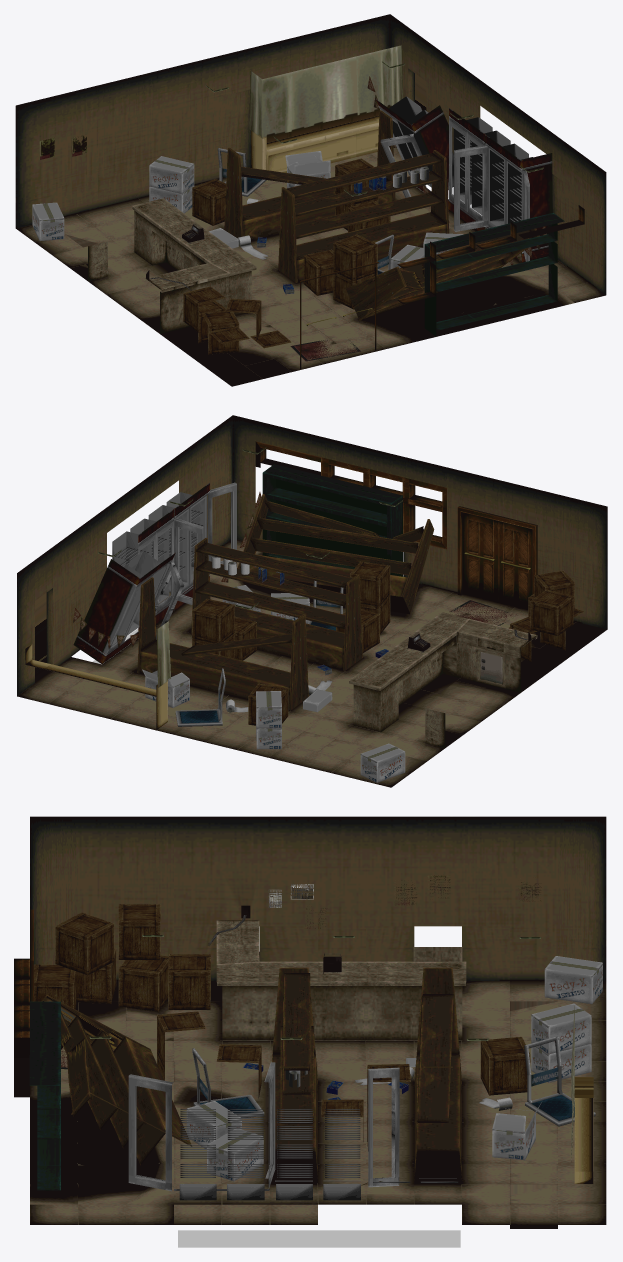
3 views of the same model, one above another, from view 1: azimuth 30°, elevation 25°; view 2: azimuth 150°, elevation 25°; view 3: azimuth 270°, elevation 25° (orthographic). The views are drawn at different scales.
Parts seen in each view (by area): view 1: NULL4_BA_m1, NULL4_BA_m4, BOSS_m2, NULL4_BA_m8, TANITA2__m0, NULL4_BA_m5, NULL3_BA_m0, TANA_HID_m0, BOSS_m0, BOSS_m12, BOSS_m1, NULL4_BA_m6 (+18 smaller); view 2: NULL4_BA_m0, NULL4_BA_m8, NULL4_BA_m5, NULL4_BA_m4, NULL4_BA_m6, BOSS_m12, BOSS_m1, NULL2_BA_m2, TANITA2__m0, NULL3_BA_m1, TANA_HID_m0, NULL3_BA_m0 (+21 smaller); view 3: NULL4_BA_m1, NULL4_BA_m4, NULL4_BA_m5, NULL4_BA_m6, BOSS_m1, NULL3_BA_m0, BOSS_m5, NU_NEAR_m0, BOSS_m4, BOSS_m10, BOSS_m2, BOSS_m3 (+19 smaller).
Part boxes in pixels (x1,y1,x2,y2): NULL4_BA_m1: [15, 14, 390, 281]; NULL4_BA_m4: [124, 227, 605, 386]; BOSS_m2: [32, 45, 403, 259]; NULL4_BA_m8: [390, 14, 606, 294]; TANITA2__m0: [286, 153, 443, 238]; NULL4_BA_m5: [16, 148, 409, 267]; NULL3_BA_m0: [389, 96, 532, 268]; TANA_HID_m0: [278, 150, 449, 282]; BOSS_m0: [423, 108, 552, 262]; BOSS_m12: [39, 110, 395, 241]; BOSS_m1: [132, 206, 256, 333]; NULL4_BA_m6: [70, 187, 464, 307]; NULL4_BA_m0: [233, 415, 607, 629]; NULL4_BA_m8: [17, 415, 232, 695]; NULL4_BA_m5: [17, 657, 444, 787]; NULL4_BA_m4: [156, 539, 606, 708]; NULL4_BA_m6: [102, 625, 498, 747]; BOSS_m12: [137, 577, 308, 710]; BOSS_m1: [316, 631, 537, 732]; NULL2_BA_m2: [234, 512, 532, 610]; TANITA2__m0: [195, 542, 352, 628]; NULL3_BA_m1: [73, 500, 423, 664]; TANA_HID_m0: [191, 538, 362, 670]; NULL3_BA_m0: [92, 492, 502, 684]; NULL4_BA_m1: [30, 816, 606, 980]; NULL4_BA_m4: [30, 981, 317, 1224]; NULL4_BA_m5: [462, 981, 606, 1224]; NULL4_BA_m6: [318, 1041, 461, 1204]; BOSS_m1: [217, 947, 465, 1094]; NULL3_BA_m0: [178, 951, 460, 1247]; BOSS_m5: [118, 955, 591, 1160]; NU_NEAR_m0: [216, 920, 466, 981]; BOSS_m4: [30, 884, 591, 1082]; BOSS_m10: [216, 994, 453, 1151]; BOSS_m2: [354, 956, 602, 1183]; BOSS_m3: [41, 915, 408, 1165].
Size of the model in its own units: 9.89 by 3.47 by 9.91.
31 materials, 30 textured.
